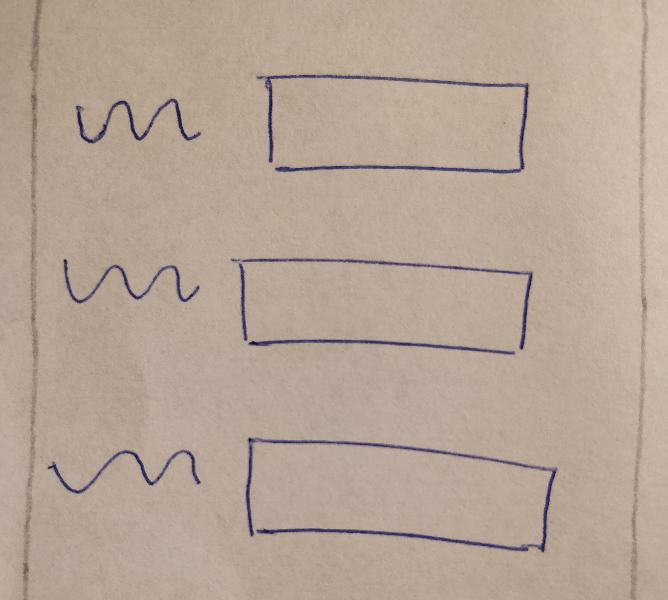text: (52, 242, 211, 316), (41, 439, 205, 506), (68, 85, 201, 158)
text_input: (240, 434, 565, 556), (250, 64, 536, 182), (226, 254, 536, 361)
